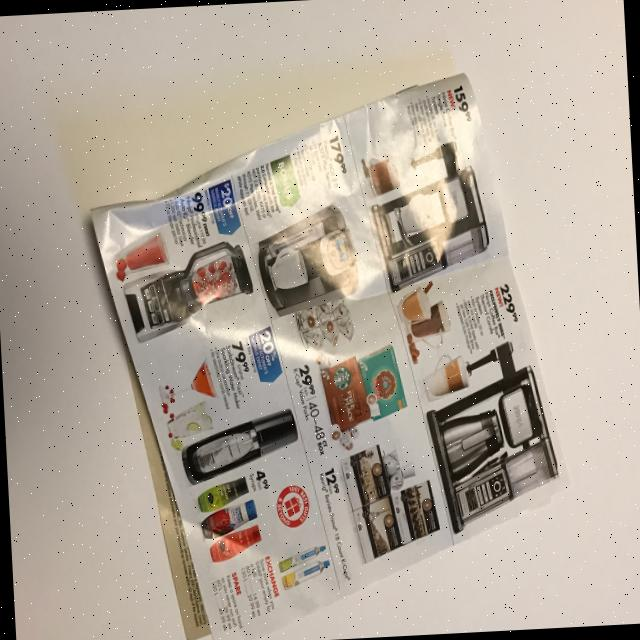paper: (83, 67, 577, 640)
